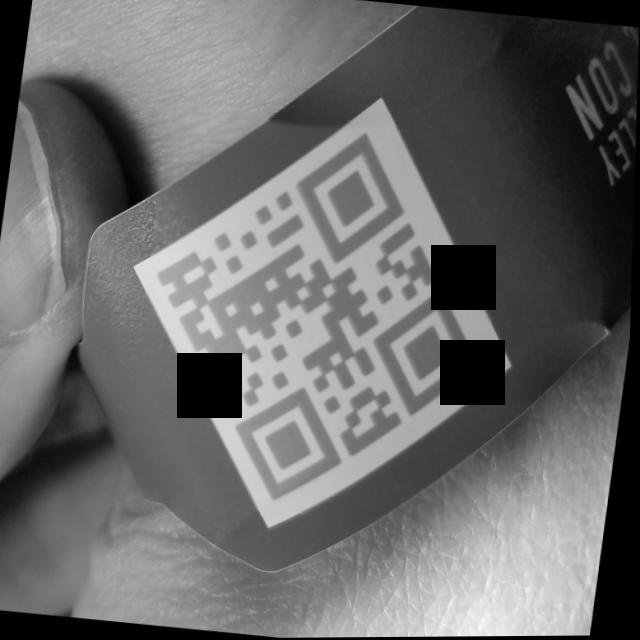QR_CODE: (121, 100, 518, 532)
